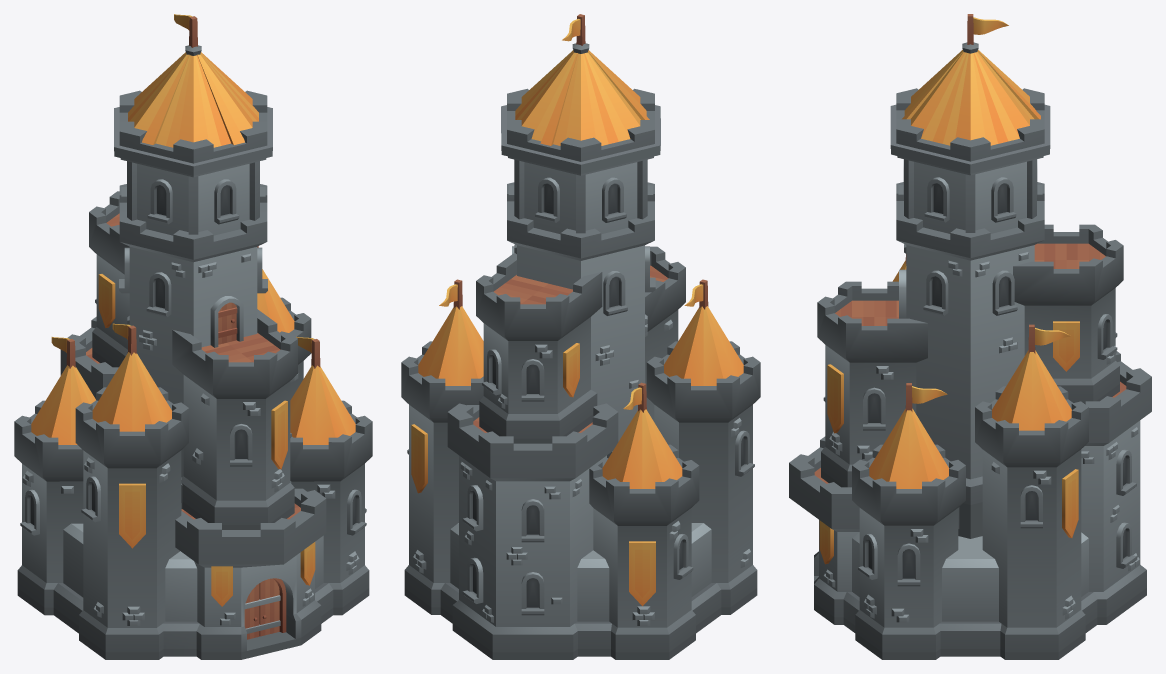
Rendered from building_castle_yellow.glb.
The picture shows the model from 3 angles, left to right: view 1: azimuth 30°, elevation 25°; view 2: azimuth 150°, elevation 25°; view 3: azimuth 270°, elevation 25°; orthographic projection.
Parts seen in each view (by area): view 1: building_castle_yellow; view 2: building_castle_yellow; view 3: building_castle_yellow.
Boxes of the visible parts, left/top/right/bottom form: building_castle_yellow: left=14, top=14, right=372, bottom=659; building_castle_yellow: left=401, top=14, right=760, bottom=659; building_castle_yellow: left=789, top=14, right=1151, bottom=659.
Bounding box in the file's own units: 1.98 × 3.98 × 2.26.
1 material, 1 textured.
